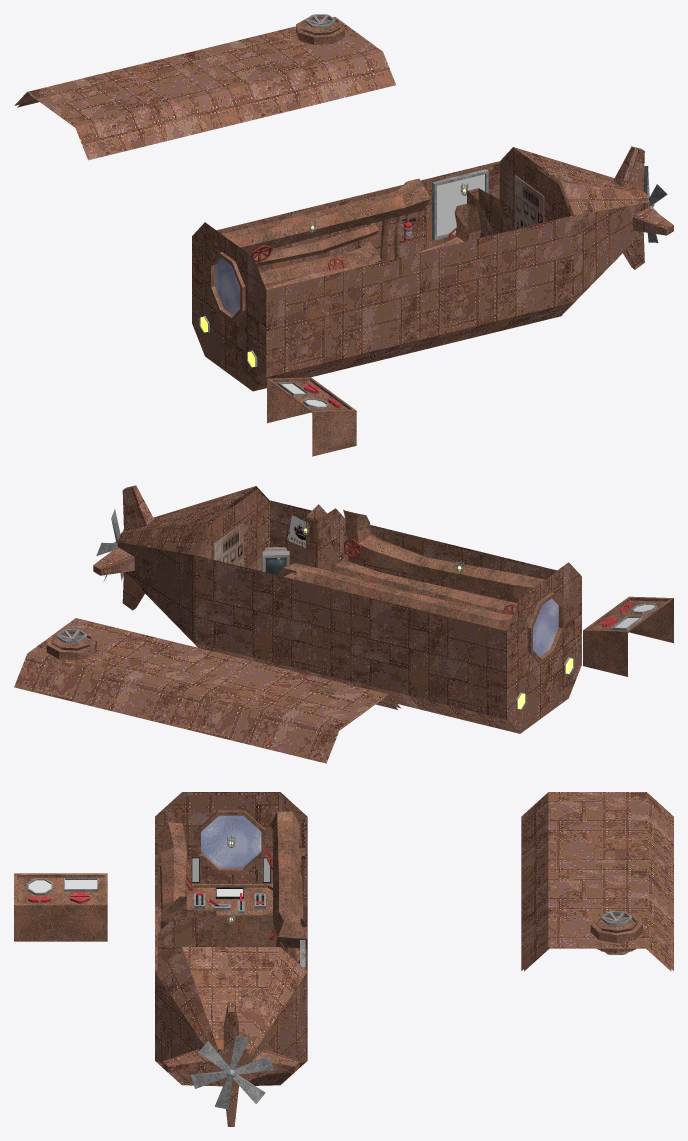
File: psx_sub_complete.glb
3 renders of one model, top to bottom at view 1: azimuth 30°, elevation 25°; view 2: azimuth 150°, elevation 25°; view 3: azimuth 270°, elevation 25°, orthographic. The views are drawn at different scales.
Parts seen in each view (by area): view 1: Sub, Roof, Pipe4, Console2, BigScreen, Pipe6, Pipe3, Pipe7, Server, Glass, Exit, PortHole; view 2: Sub, Roof, Pipe3, Console2, Pipe4, Pipe5, Glass, Exit, PortHole, Server, PcMonitor, Poster; view 3: Sub, Roof, Console2, Pipe4, Console1, Glass, Pipe3, Propeller, Exit, PortHole.
Boxes of the visible parts, <box> form: Sub: <box>192,146,673,391</box>; Roof: <box>14,17,395,160</box>; Pipe4: <box>221,178,430,254</box>; Console2: <box>267,377,356,456</box>; BigScreen: <box>432,169,488,240</box>; Pipe6: <box>259,241,381,283</box>; Pipe3: <box>264,203,480,289</box>; Pipe7: <box>253,222,378,266</box>; Server: <box>514,175,544,229</box>; Glass: <box>214,258,240,315</box>; Exit: <box>296,17,344,44</box>; PortHole: <box>209,252,245,321</box>; Sub: <box>93,485,581,733</box>; Roof: <box>14,618,401,763</box>; Pipe3: <box>343,509,544,598</box>; Console2: <box>583,596,673,676</box>; Pipe4: <box>278,563,512,630</box>; Pipe5: <box>333,560,517,614</box>; Glass: <box>533,598,558,656</box>; Exit: <box>47,632,96,660</box>; PortHole: <box>527,592,564,663</box>; Server: <box>213,523,243,566</box>; PcMonitor: <box>262,547,289,575</box>; Poster: <box>287,515,305,547</box>; Sub: <box>155,792,307,1126</box>; Roof: <box>521,792,673,971</box>; Console2: <box>14,873,107,941</box>; Pipe4: <box>270,811,307,949</box>; Console1: <box>186,884,276,946</box>; Glass: <box>201,815,261,868</box>; Pipe3: <box>158,822,187,929</box>; Propeller: <box>190,1035,273,1109</box>; Exit: <box>590,914,642,953</box>; PortHole: <box>197,810,265,873</box>.
Size of the model in its own units: 8.7 by 2.77 by 10.81.
Materials: 22 (18 with a texture image).
